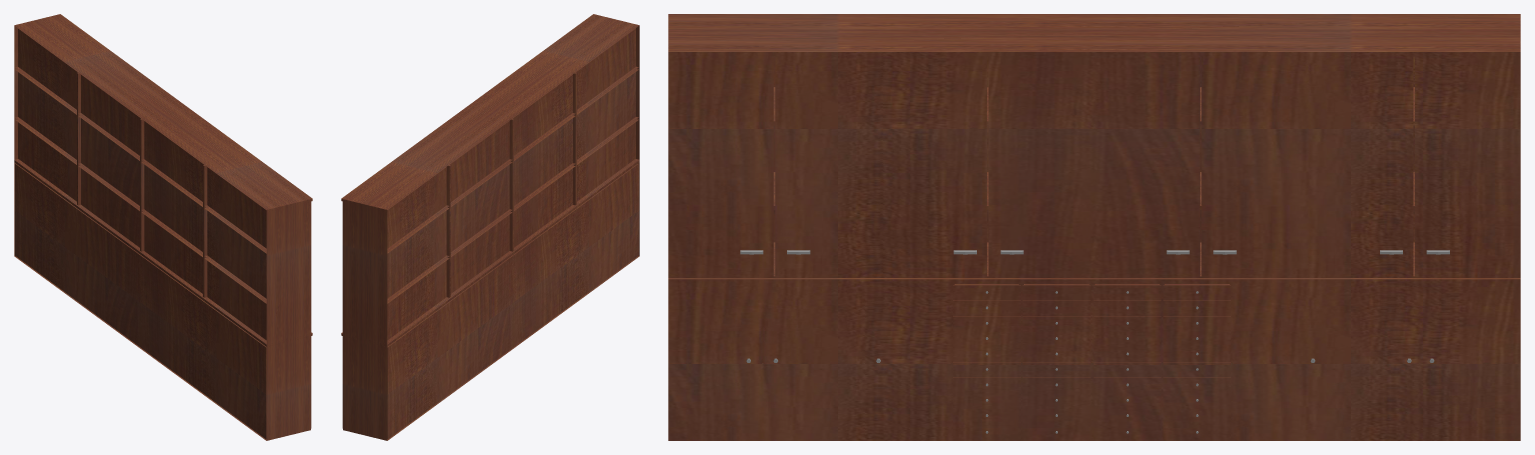
File: CK-guizi0005-CJBZ.FBX
3 renders of one model, left to right at view 1: azimuth 30°, elevation 25°; view 2: azimuth 150°, elevation 25°; view 3: azimuth 270°, elevation 25°, orthographic. The views are drawn at different scales.
Parts seen in each view (by area): view 1: CK-guizi0005-CJBZ; view 2: CK-guizi0005-CJBZ; view 3: CK-guizi0005-CJBZ.
Part boxes in pixels (left/top/right/bottom): CK-guizi0005-CJBZ: left=14, top=14, right=312, bottom=440; CK-guizi0005-CJBZ: left=341, top=14, right=639, bottom=440; CK-guizi0005-CJBZ: left=668, top=14, right=1520, bottom=440.
Bounding box in the file's own units: 0.5706 × 2.66 × 5.27.
2 materials, 1 textured.
